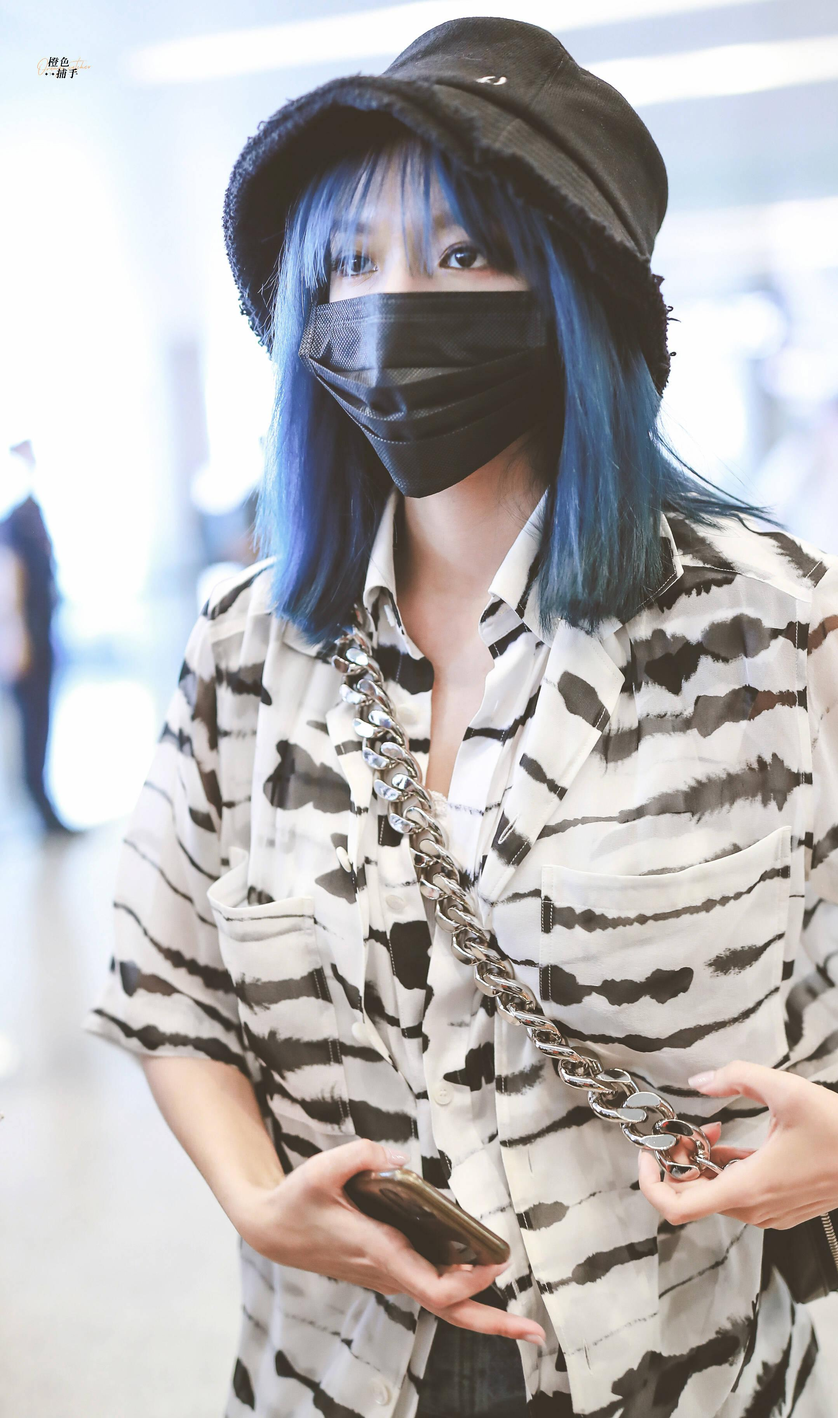OK: (298, 167, 547, 498)
